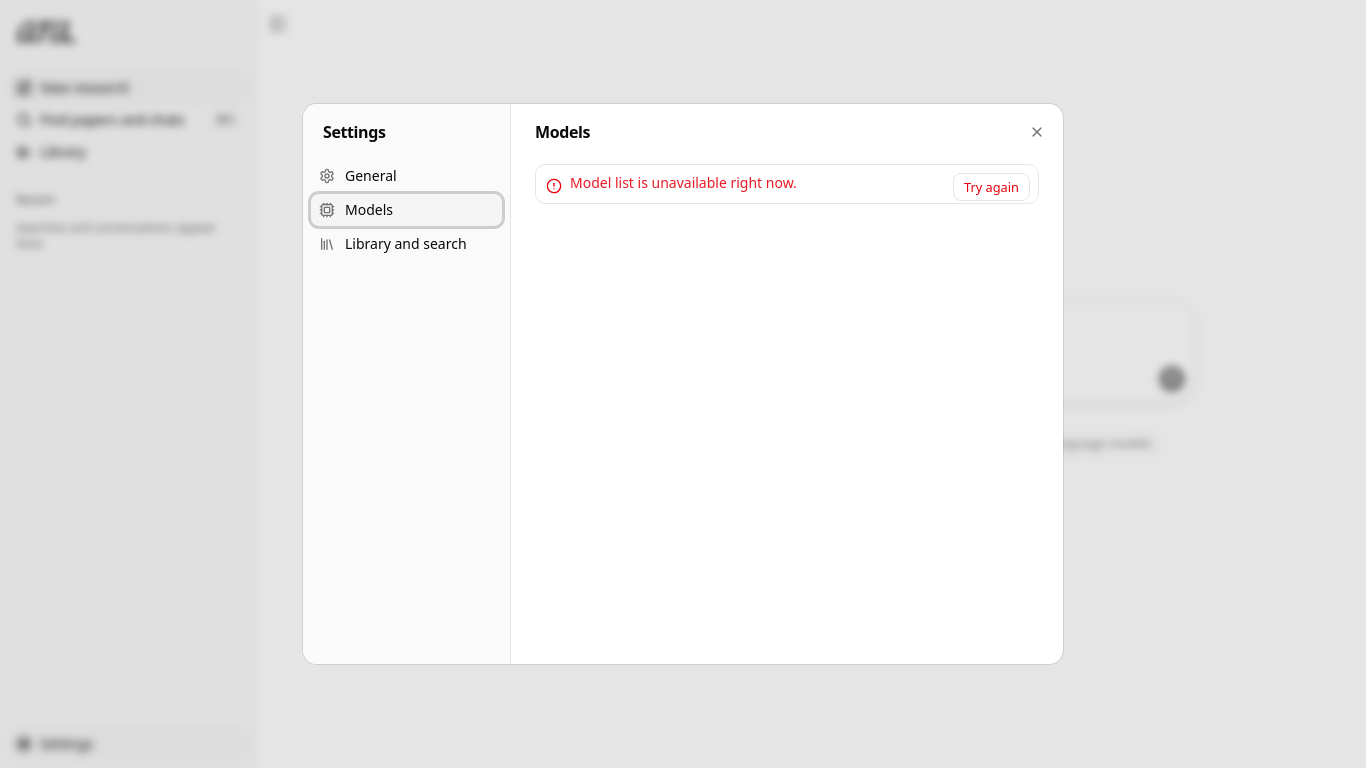
Test: Given models cannot load, Then the error is shown inline and Try again reloads them
This screenshot has width=1366, height=768.
Expected: the message shows "Model list is unavailable right now.", [570, 173, 797, 192]
What coordinates should you click on to do the following:
click the button "Try again"
I would click on:
 (991, 187)
Its box is [953, 173, 1030, 201].
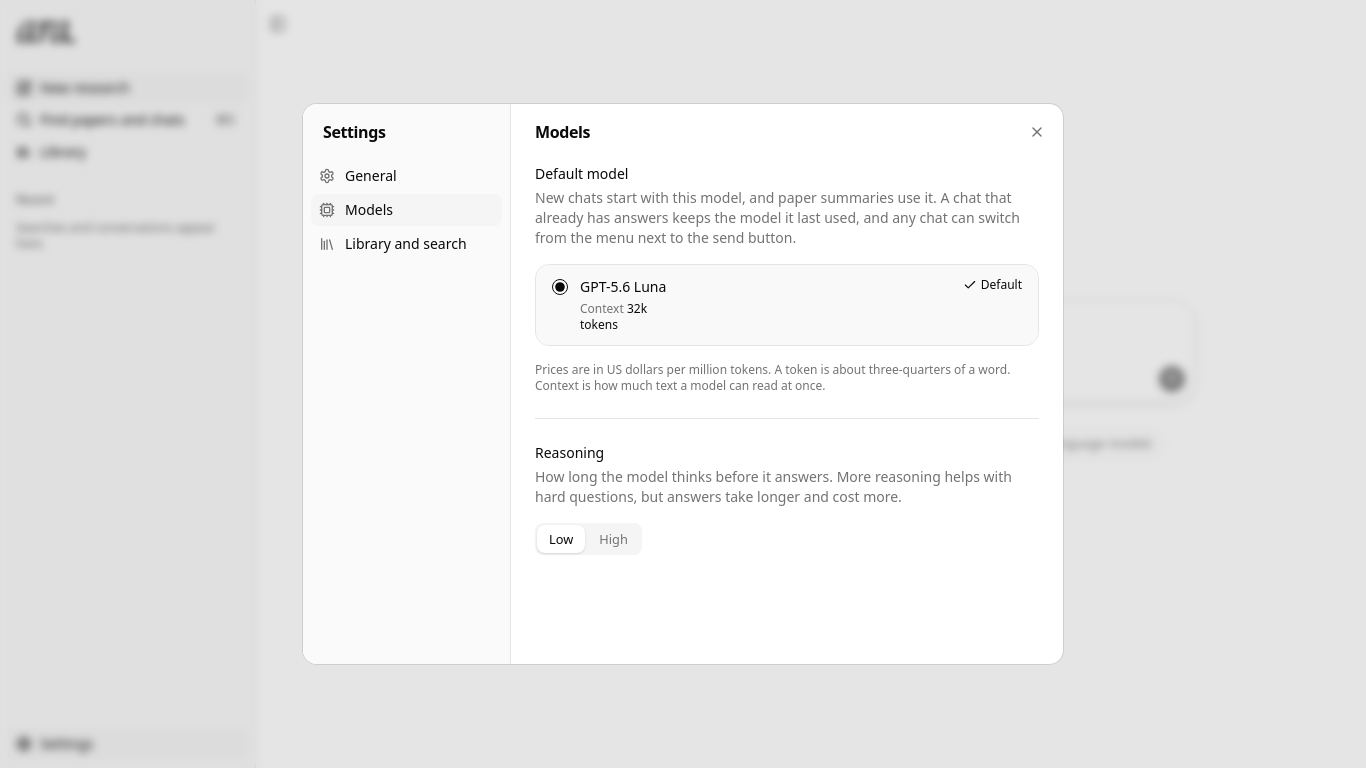
Result: the radio button labelled "GPT-5.6 Luna" is checked at [552, 279, 568, 295]
Result: the message "Model list is unavailable right now. Try again" is gone
